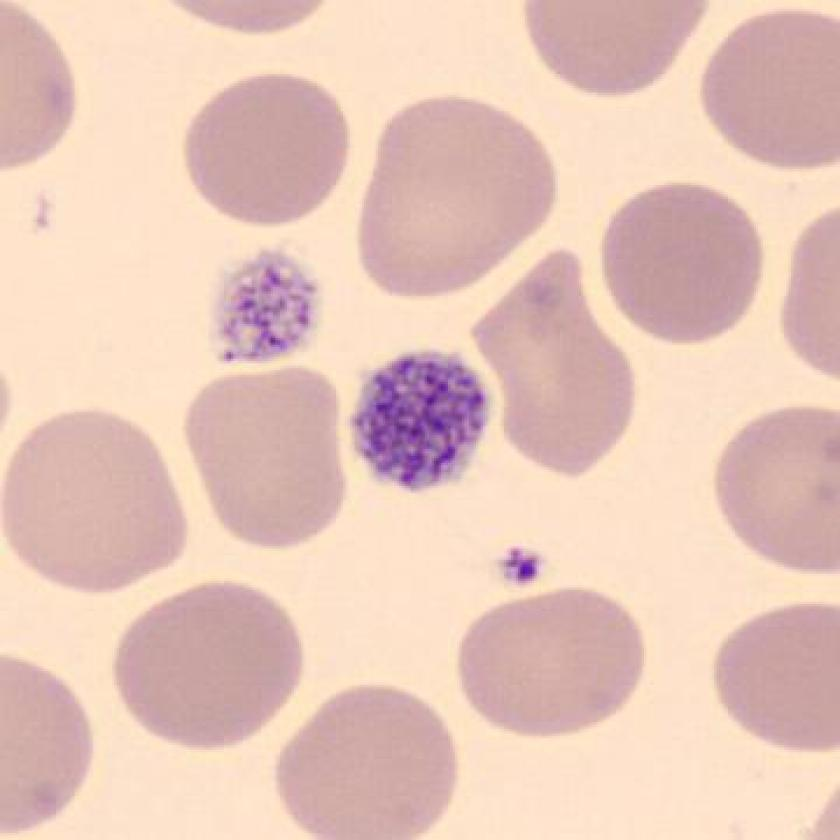platelets: (342, 339, 505, 501), (202, 233, 335, 379), (486, 536, 559, 598)
